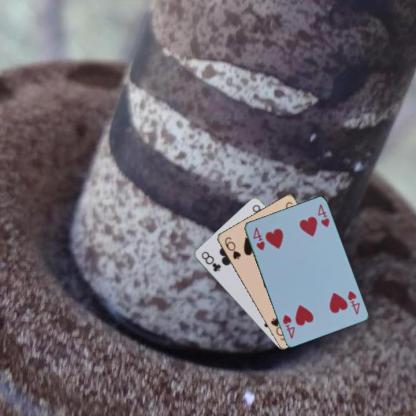4h: (250, 225, 266, 252), (345, 288, 360, 316)
6s: (222, 234, 242, 261)
8c: (198, 249, 222, 273)
